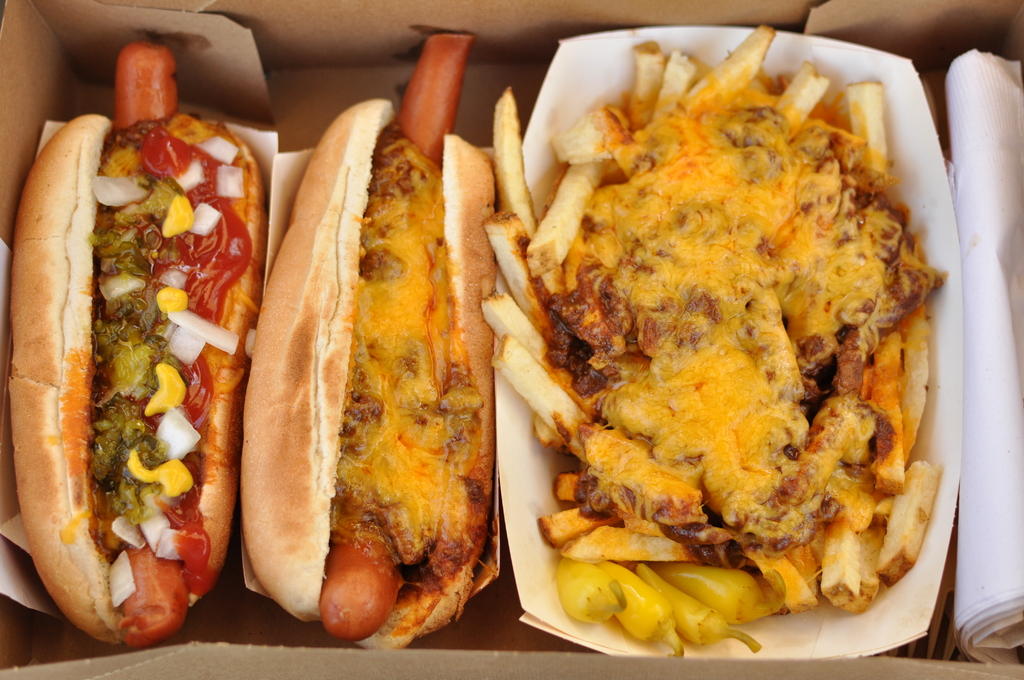French fries: (474, 14, 949, 626)
